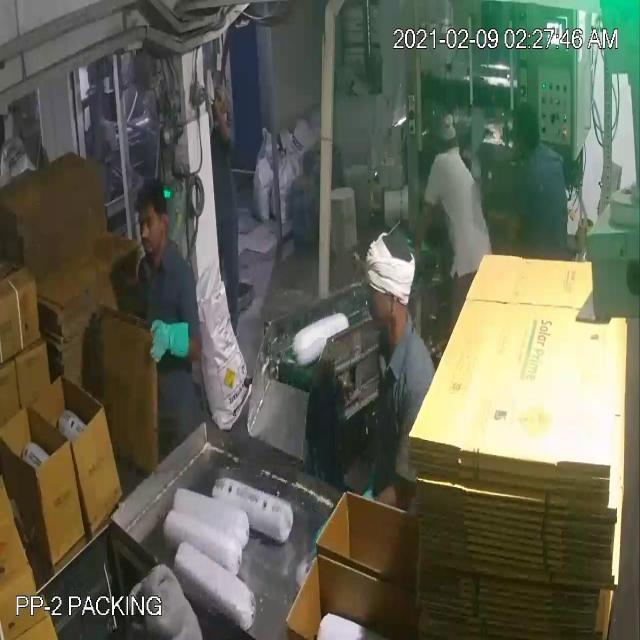Gloves: (20, 60, 425, 342)
